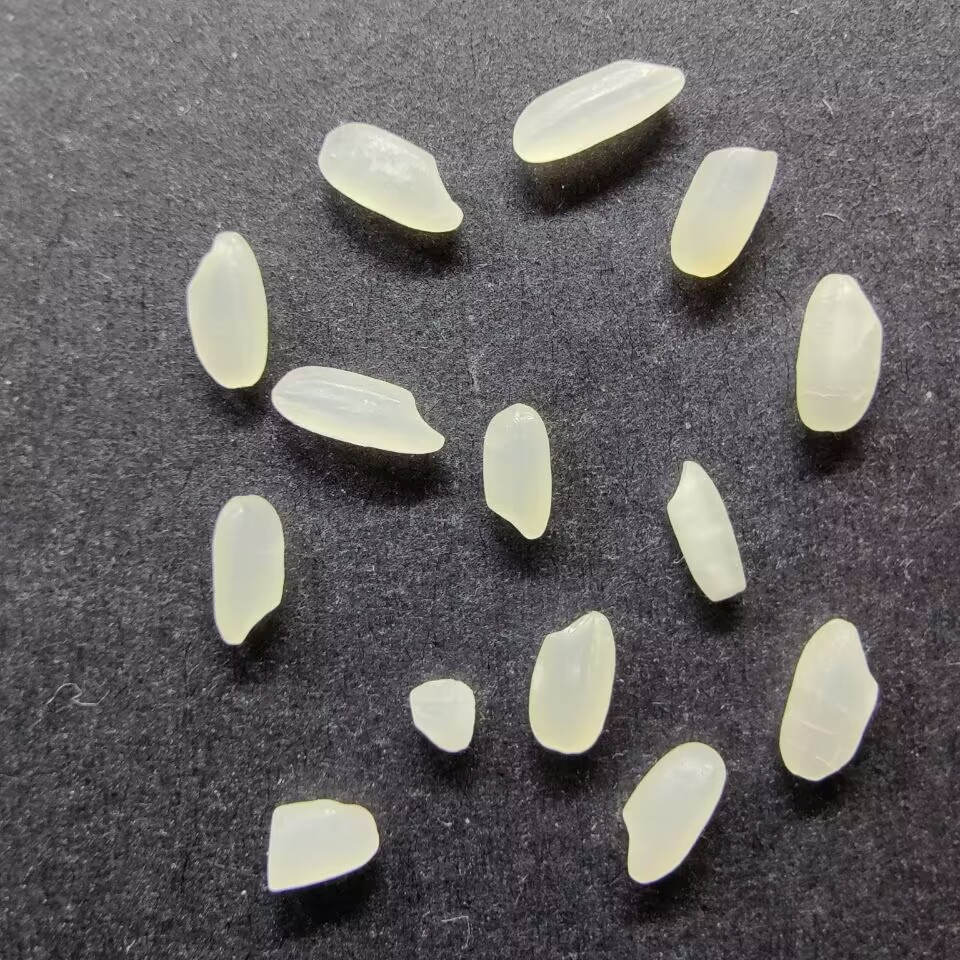broken: (263, 798, 379, 897), (407, 677, 476, 755)
rice: (511, 57, 689, 163), (316, 120, 463, 234), (270, 363, 447, 457), (778, 619, 880, 781), (621, 739, 728, 887), (669, 145, 781, 281), (794, 271, 883, 434), (185, 228, 269, 391), (529, 609, 617, 754), (665, 457, 749, 604), (210, 492, 286, 648), (479, 402, 555, 541)
